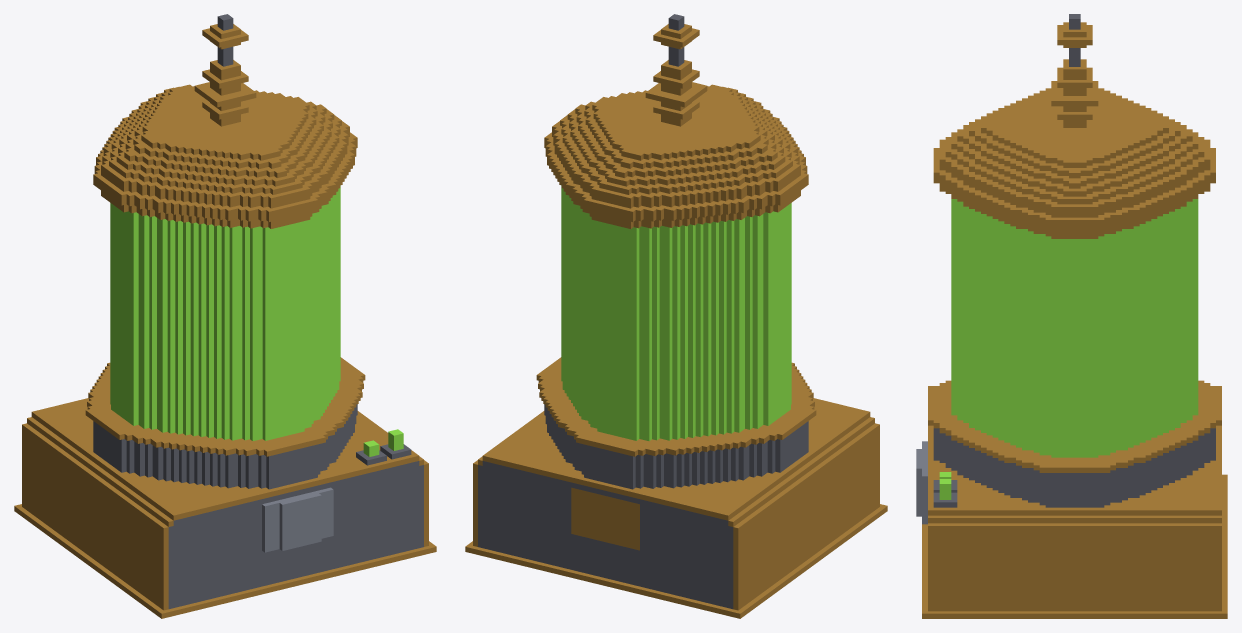
Rendered from GGJ thing 05.obj.
The picture shows the model from 3 angles, left to right: view 1: azimuth 30°, elevation 25°; view 2: azimuth 150°, elevation 25°; view 3: azimuth 270°, elevation 25°; orthographic projection. The views are drawn at different scales.
Size of the model in its own units: 5.6 by 10 by 5.3.
1 material, 1 textured.
